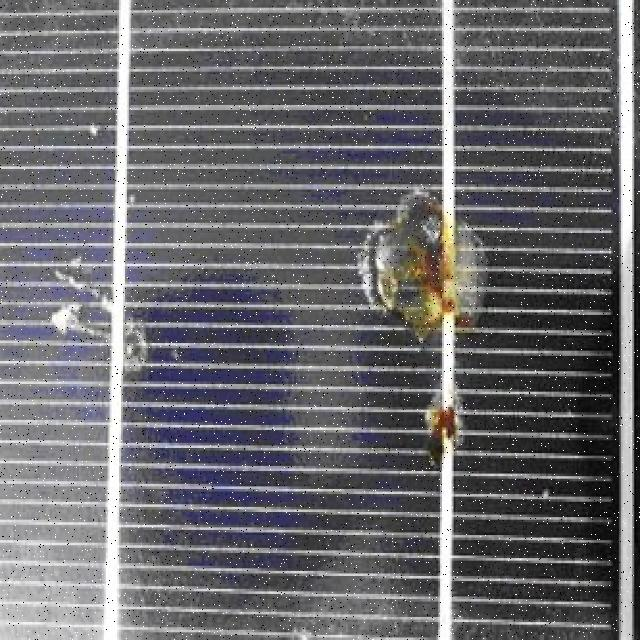electrical damage: (318, 175, 527, 558), (37, 203, 193, 442)
